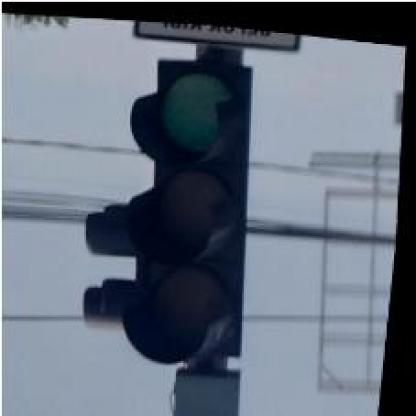green: (109, 49, 272, 366)
